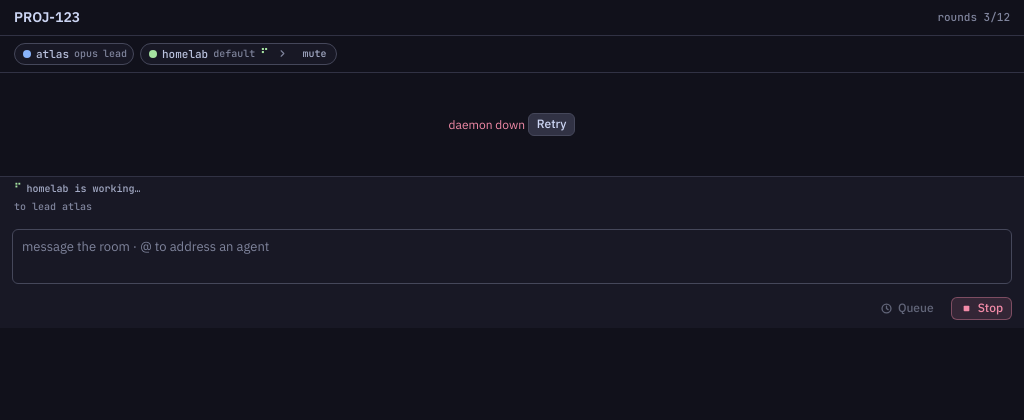
Test: a failed load shows the error with a retry
Expected: the text "daemon down Retry" is shown, top-left (448, 113), bottom-right (575, 136)
Click the button "Retry" at x=552, y=124, box top-left (528, 113), bottom-right (575, 136)
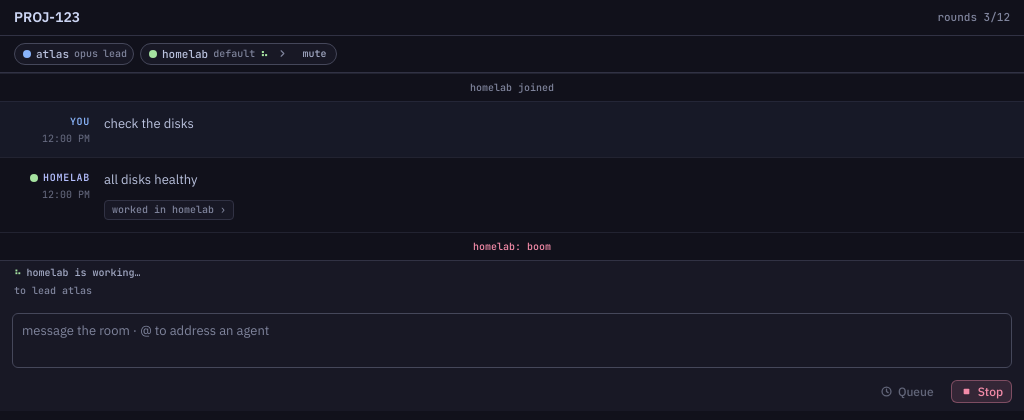
Expected: the text "all disks healthy" is shown, top-left (104, 171), bottom-right (198, 188)
